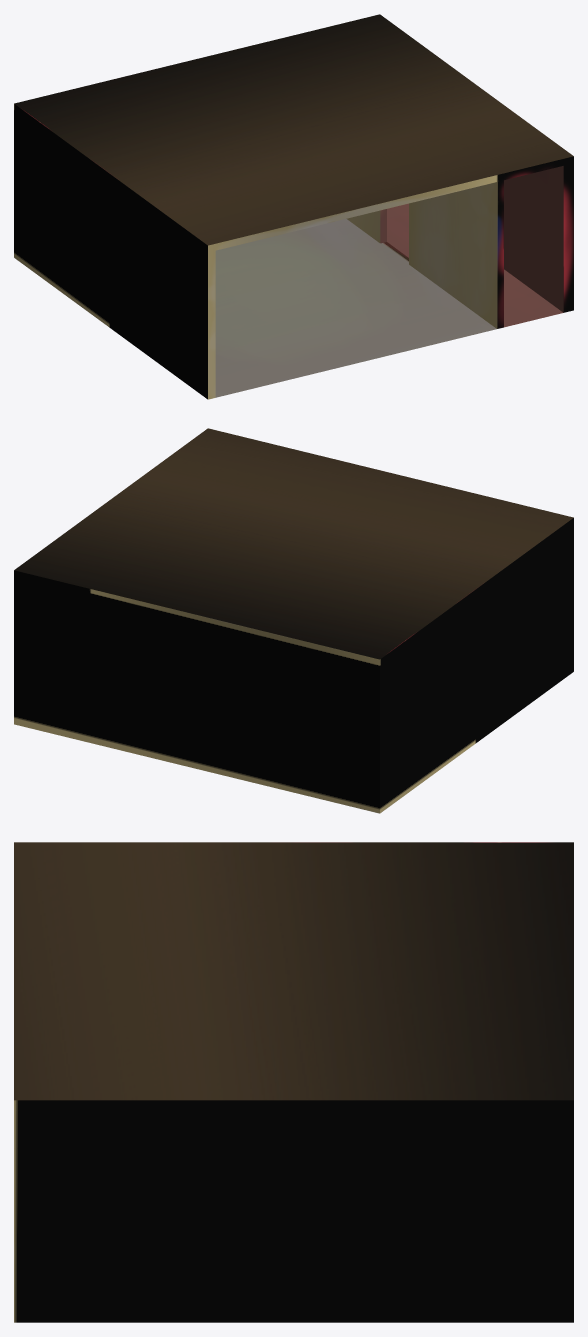
File: House.fbx
The picture shows the model from 3 angles, top to bottom: view 1: azimuth 30°, elevation 25°; view 2: azimuth 150°, elevation 25°; view 3: azimuth 270°, elevation 25°; orthographic projection. The views are drawn at different scales.
Visible parts, largest first — view 1: Cube; view 2: Cube; view 3: Cube.
Boxes of the visible parts, x1,y1,x2,y2 form: Cube: (14,14,573,399); Cube: (14,428,573,813); Cube: (14,842,573,1322).
Size of the model in its own units: 1914 by 770 by 1757.
